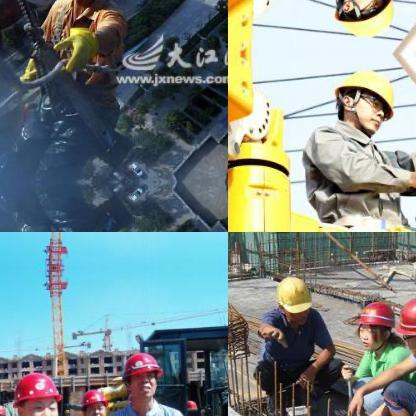Helmet: (328, 58, 404, 136), (327, 0, 406, 47), (2, 368, 59, 415), (121, 348, 164, 406), (354, 298, 394, 350), (272, 273, 312, 325), (392, 292, 415, 354), (79, 387, 108, 415), (0, 401, 7, 415)
